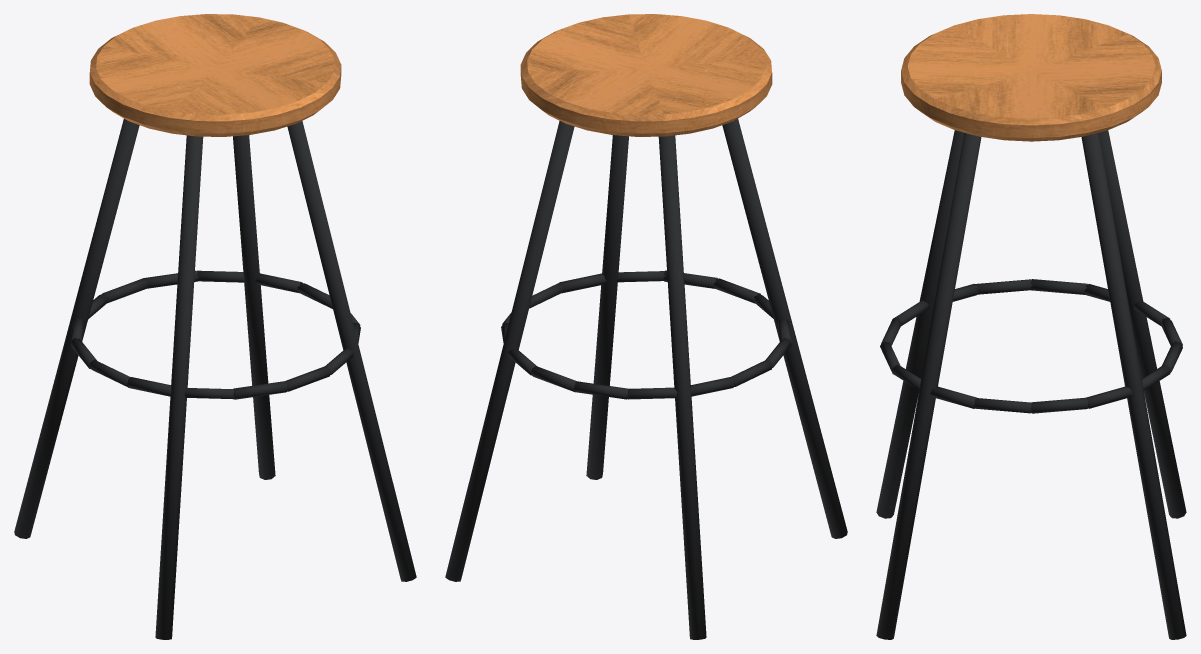
File: seating.stool-high.glb
3 views of the same model, side by side, from view 1: azimuth 30°, elevation 25°; view 2: azimuth 150°, elevation 25°; view 3: azimuth 270°, elevation 25° (orthographic). The views are drawn at different scales.
Parts seen in each view (by area): view 1: seating.stool-high.001; view 2: seating.stool-high.001; view 3: seating.stool-high.001.
Boxes of the visible parts, x1,y1,x2,y2 form: seating.stool-high.001: [14, 14, 416, 639]; seating.stool-high.001: [445, 14, 847, 639]; seating.stool-high.001: [876, 14, 1186, 639].
Size of the model in its own units: 0.4197 by 0.7628 by 0.4197.
2 materials, 1 textured.
